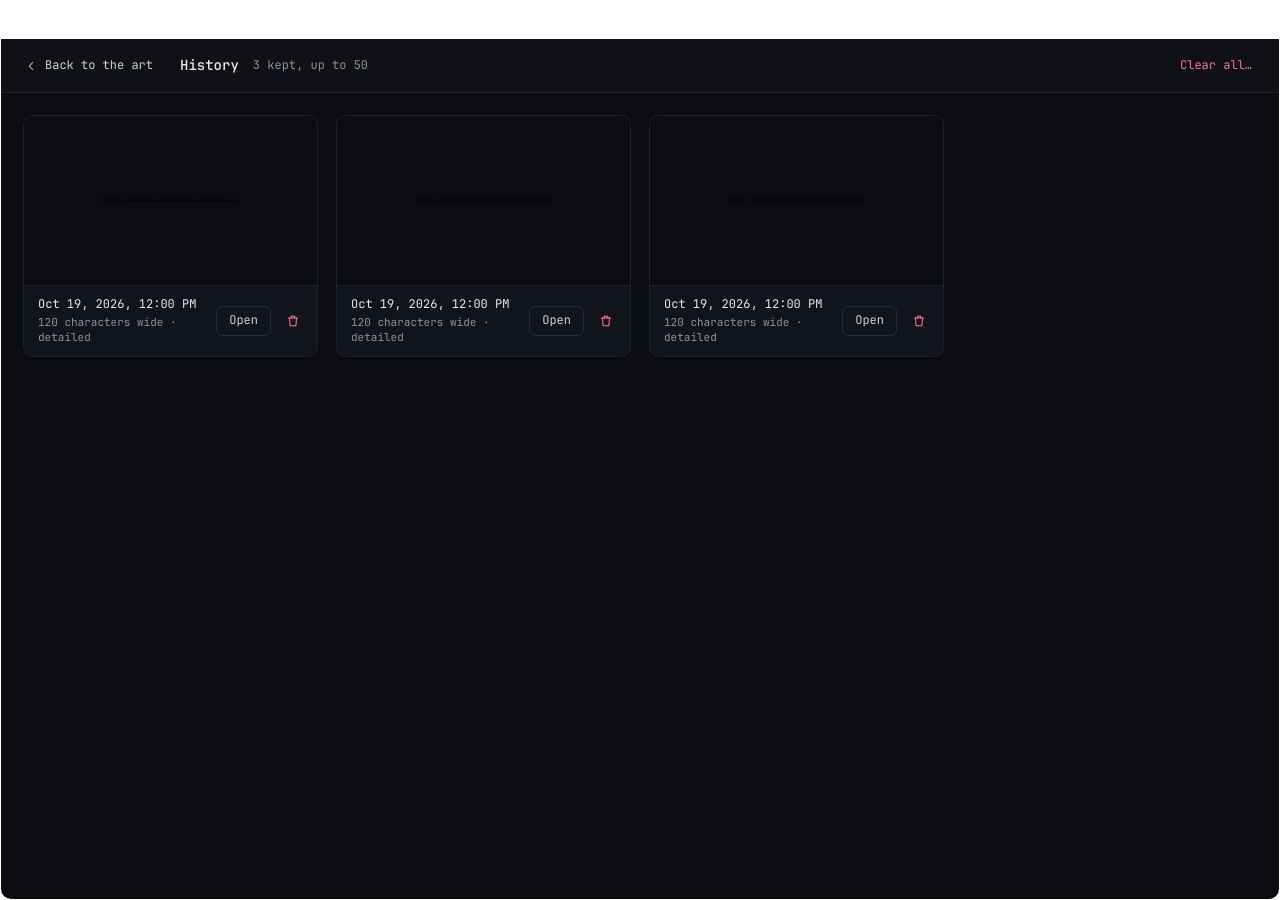
deleting › clears everything, but only after asking
Click the button "Clear all…" at (1216, 66), box [1167,50,1265,82]
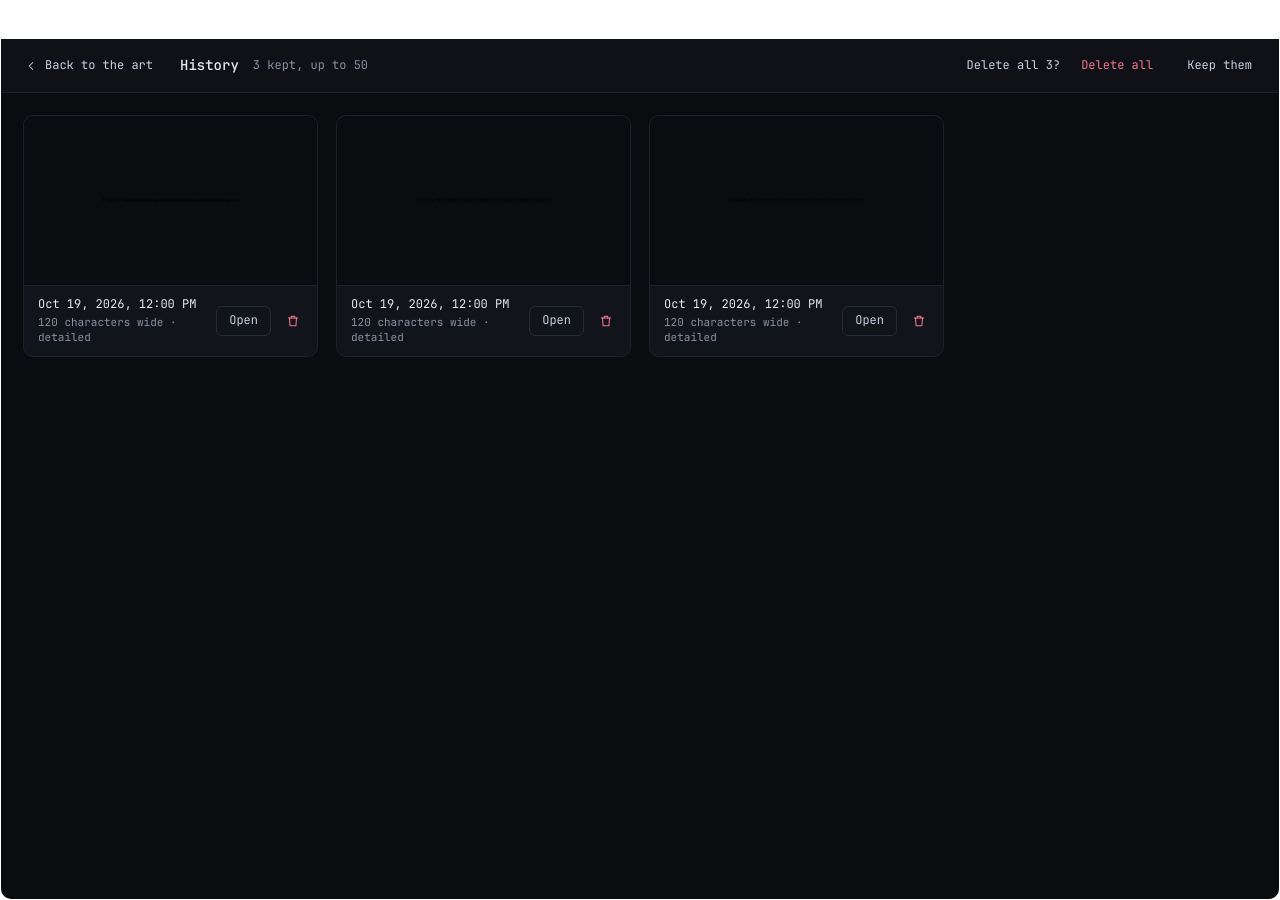
Expected: the text "Delete all 3? Delete all Keep them" is shown, [967,50,1265,82]
Click the button "Delete all" at (1117, 66), box [1068,50,1166,82]
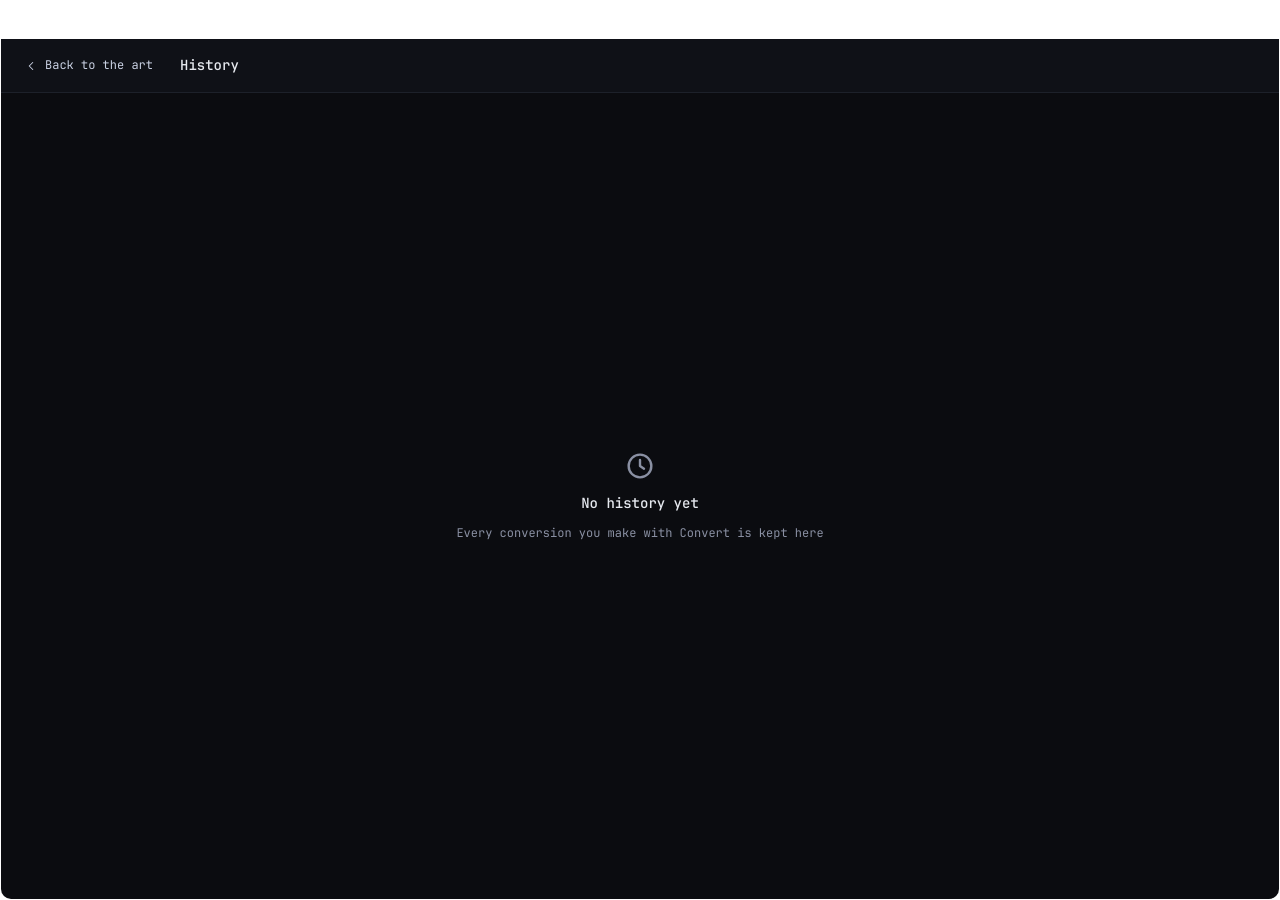
Expected: the text "No history yet" is shown, [581,494,699,513]
